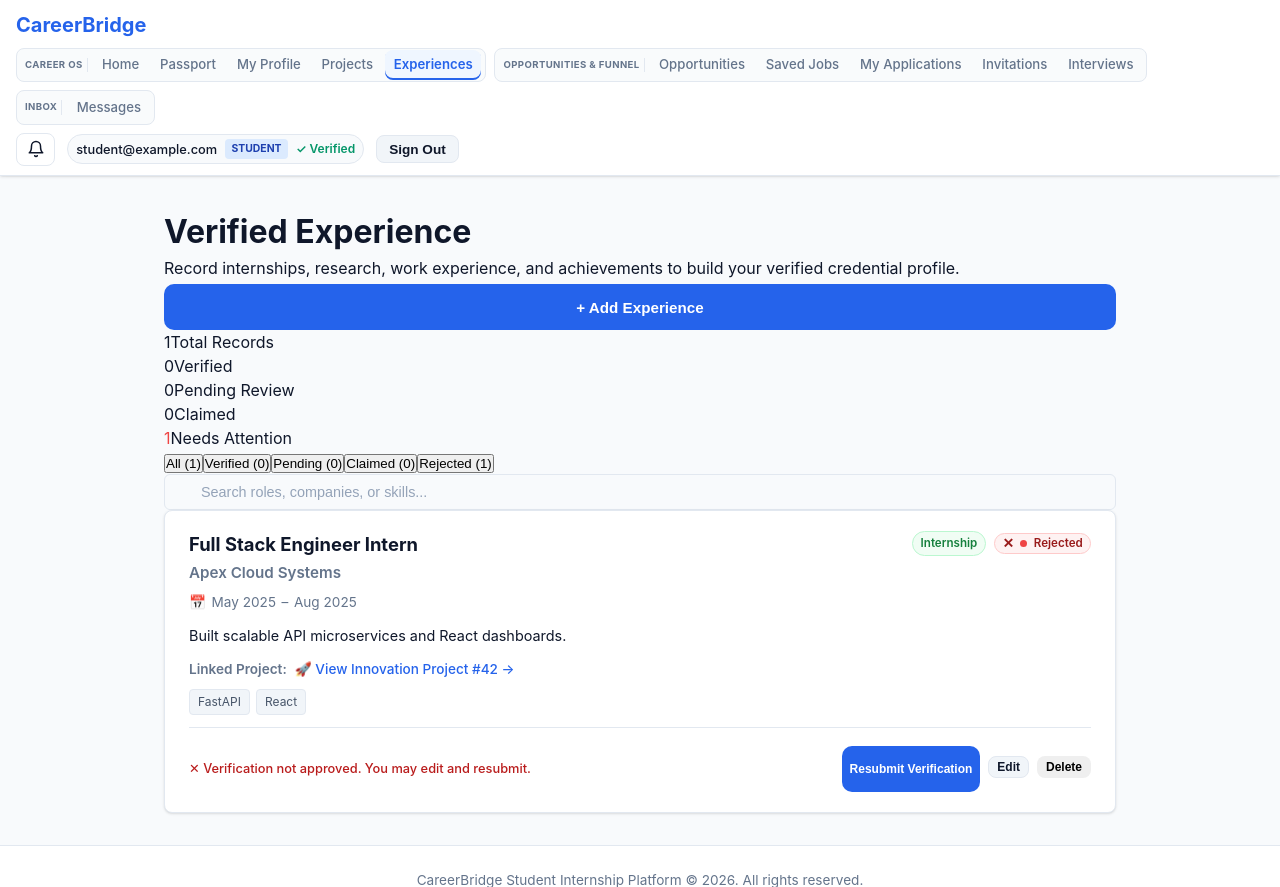
it: Verified Experience Full End-to-End Integration Flow (Phase 5) › Flow 3: Rejected Experience Resubmission Flow › allows student to resubmit a previously rejected experience claim
Expected: the heading "Full Stack Engineer Intern" is shown, [189,531,418,558]
Expected: the text "Rejected" is shown, [1034,538,1083,549]
Click the button with test id "request-verify-btn-303".
click(911, 769)  # box [842,746,980,792]
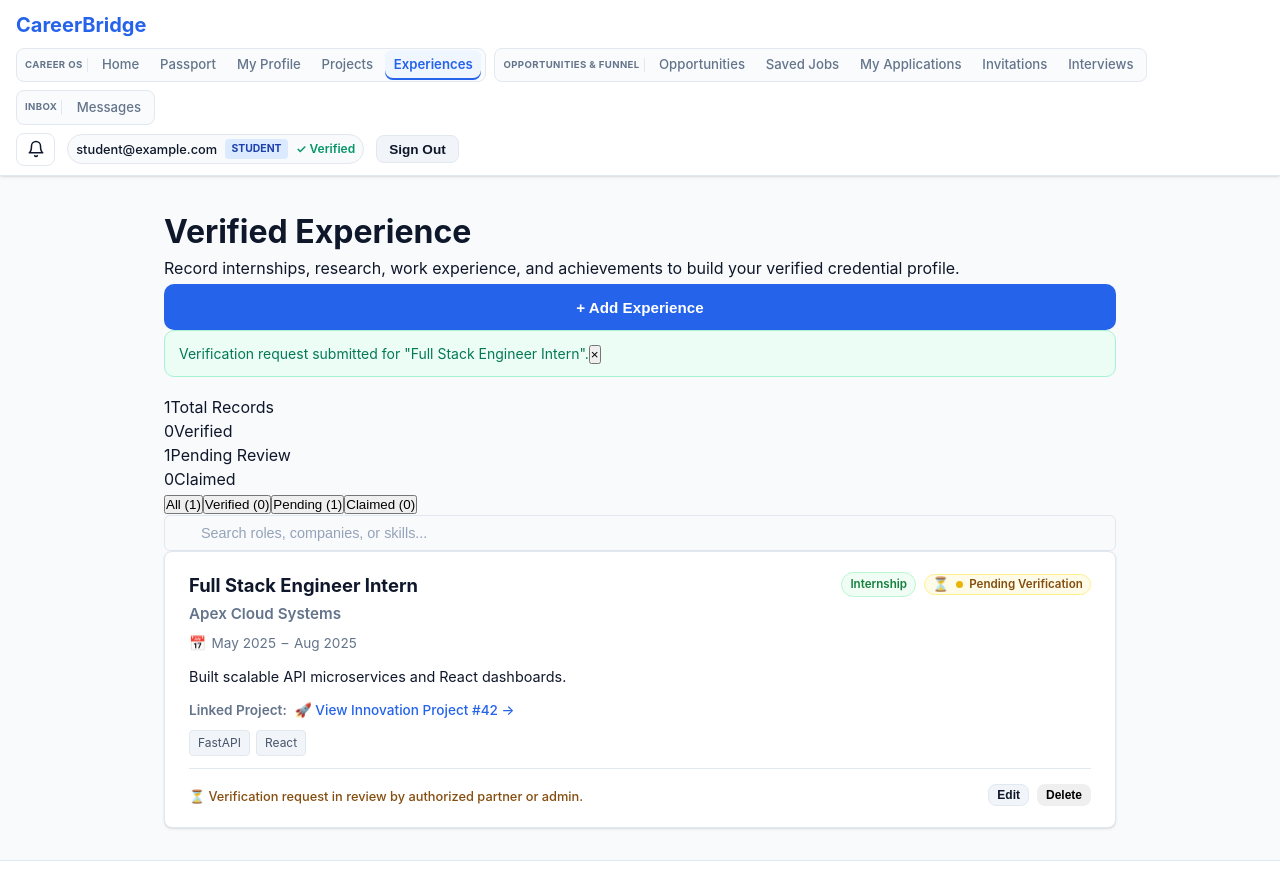
Now the text "Pending Verification" is shown, box [969,579,1083,590]
Now the text "Verification request submitted for \"Full Stack Engineer Intern\"." is shown, box [179,345,589,362]
